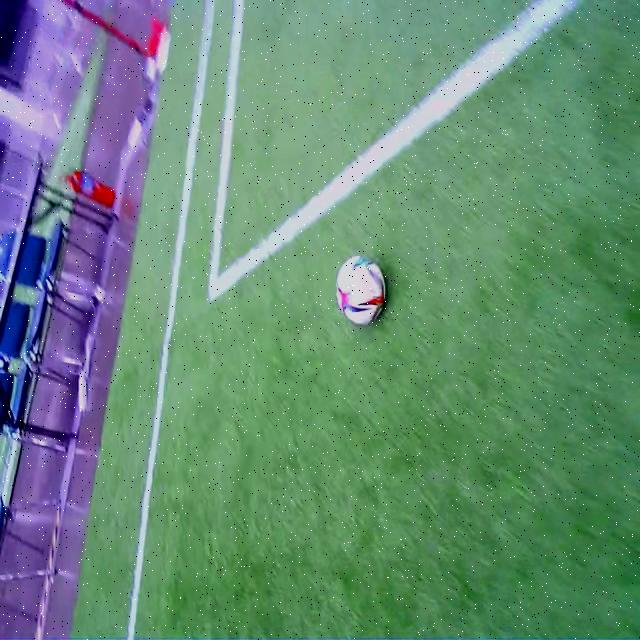ball: (336, 256, 386, 326)
